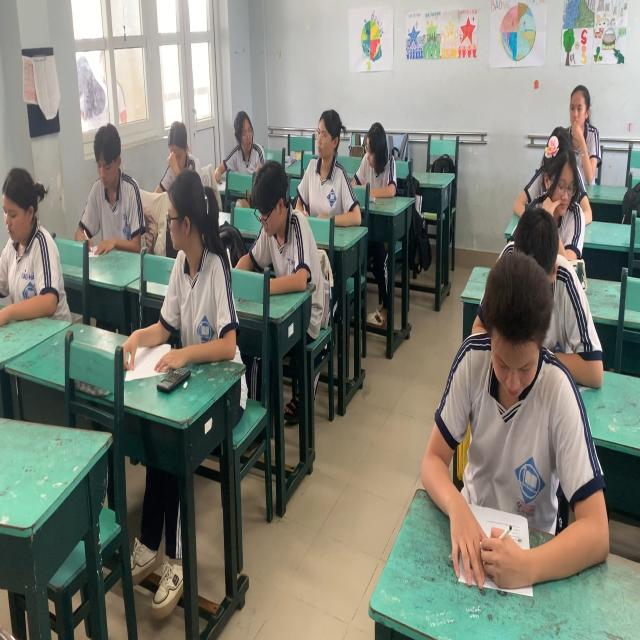cheating: (163, 178, 227, 378), (221, 102, 260, 174), (365, 121, 404, 188)
not_cheating: (425, 270, 591, 574), (3, 163, 68, 333), (81, 109, 157, 252), (242, 153, 310, 301), (538, 139, 580, 229), (301, 102, 332, 218), (163, 116, 203, 188), (562, 84, 590, 139)
